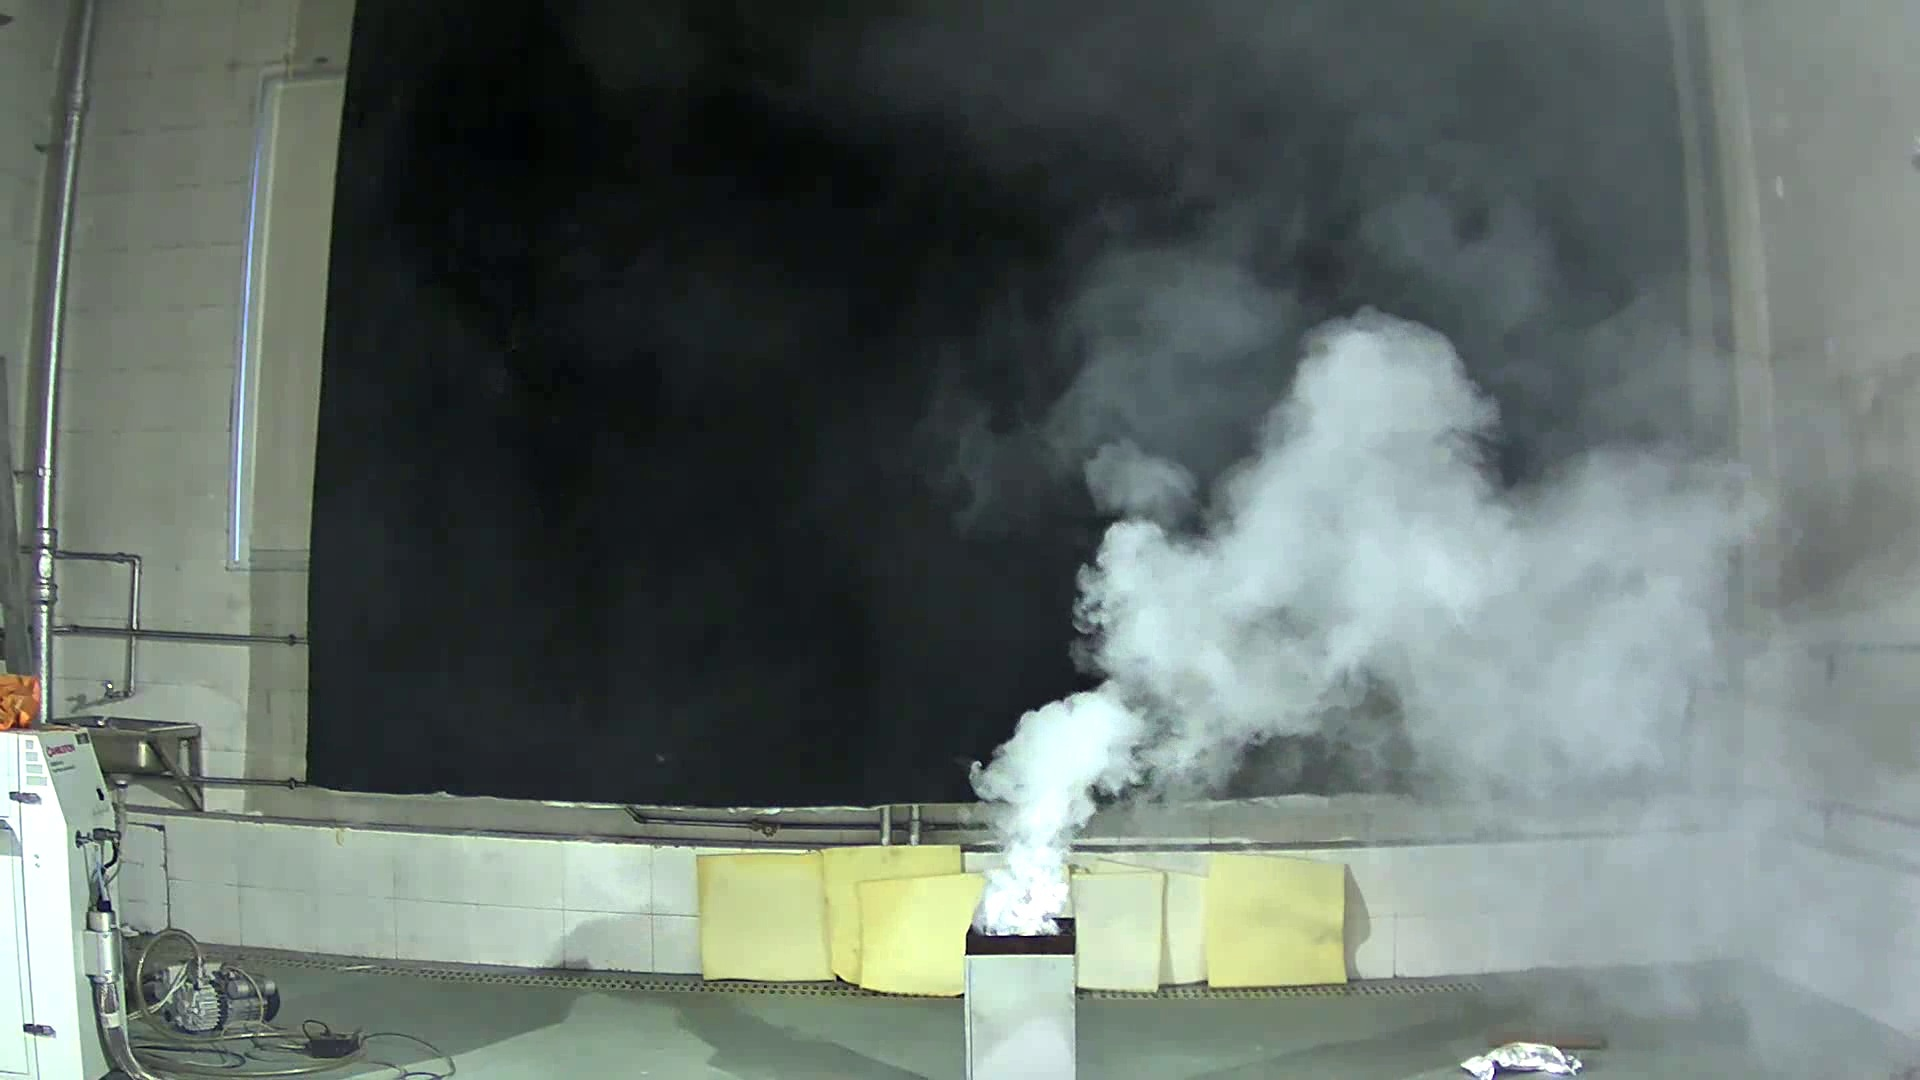smoke: (899, 218, 1783, 934)
